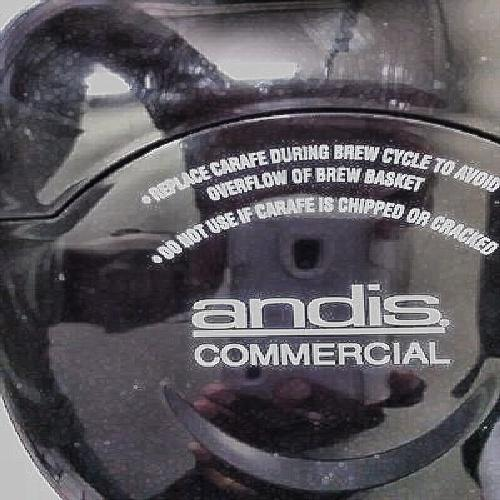coffee_maker: (27, 21, 480, 480)
